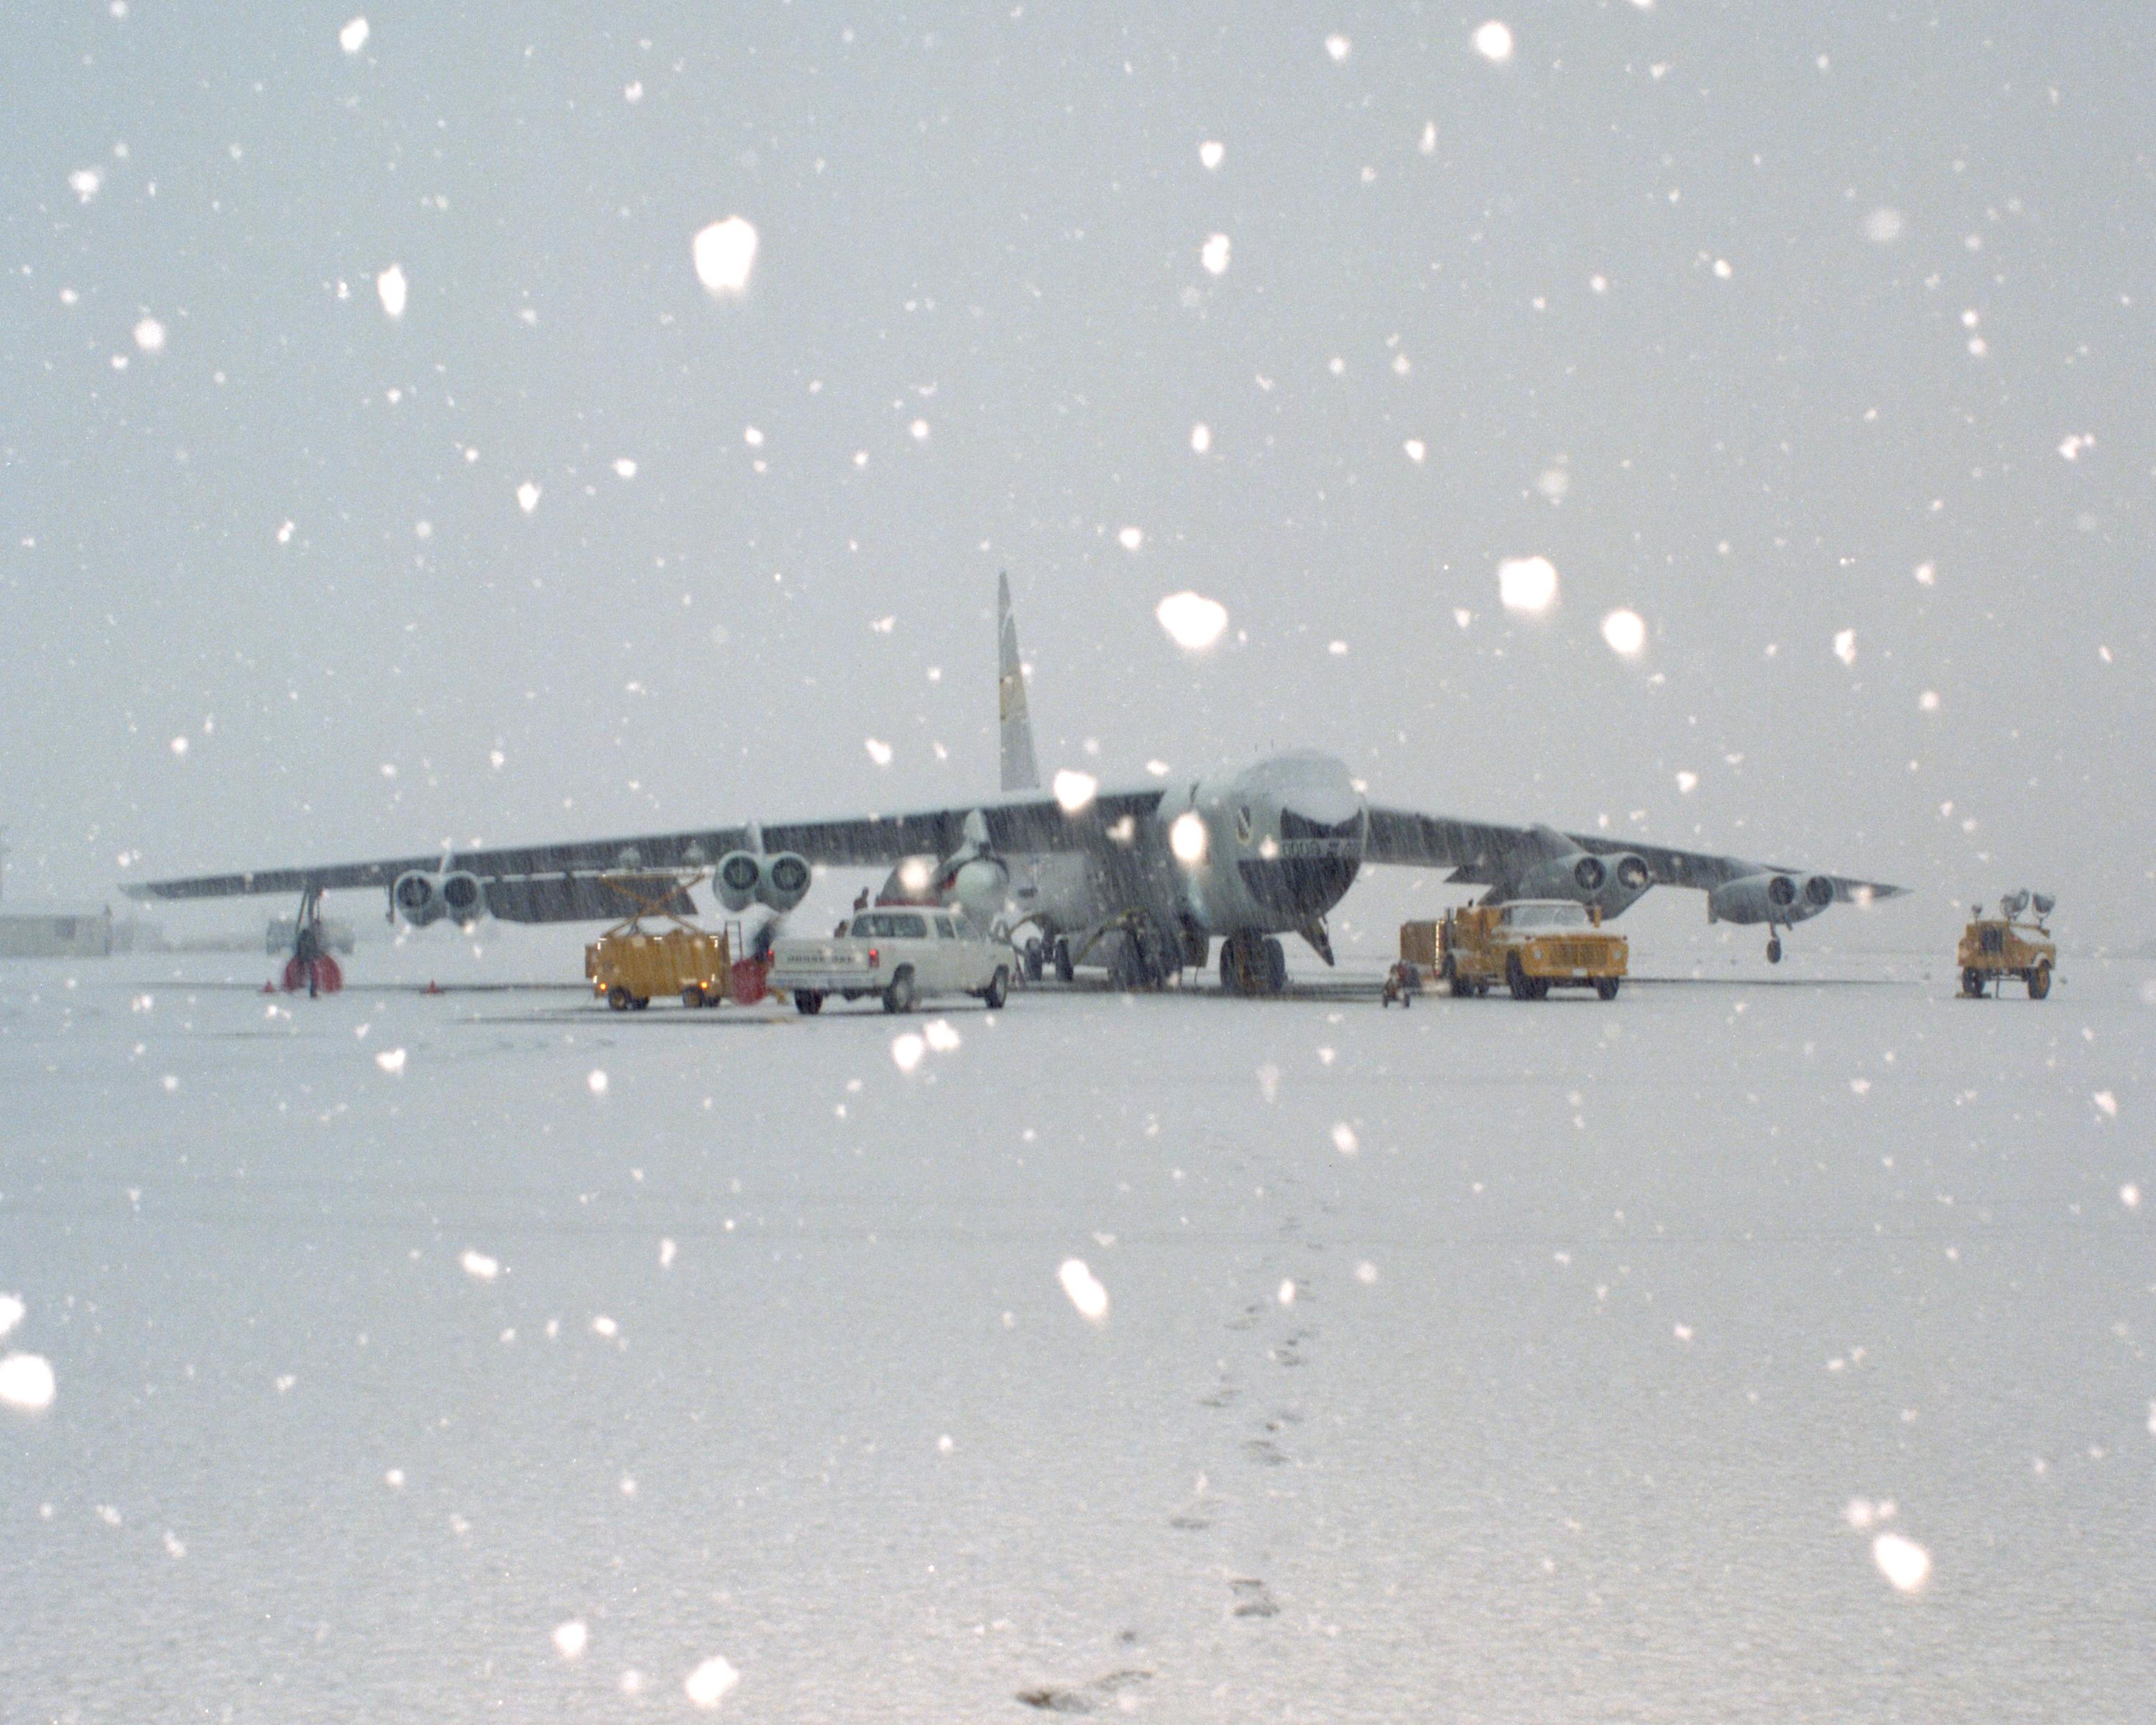B52: (114, 570, 1911, 993)
